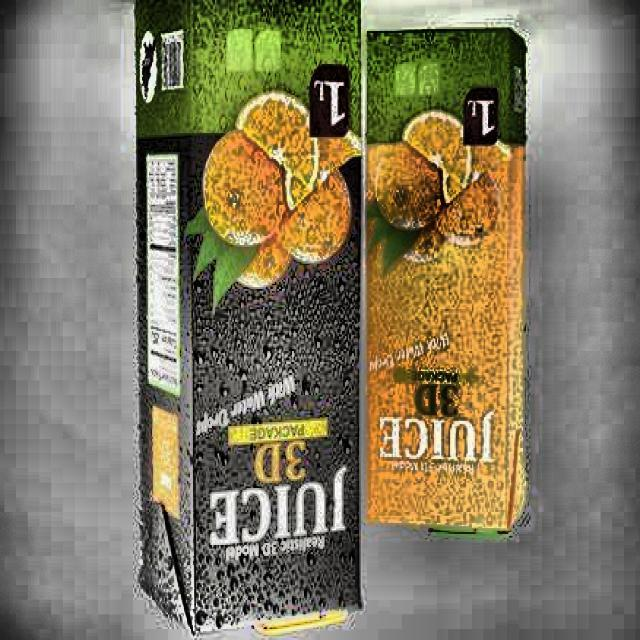cardboard: (134, 0, 366, 638), (366, 28, 528, 540)
